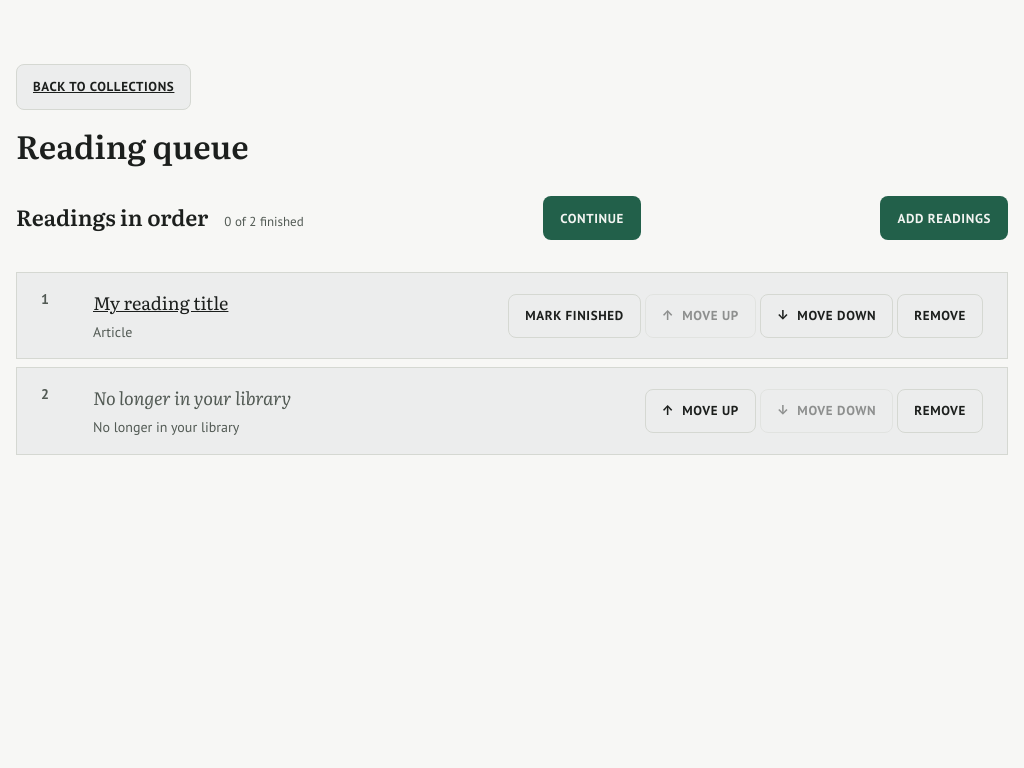
membership-edit honest failures (issue #243) › a storage failure announces the action-specific retry copy and leaves the rows intact
Expected: the heading "Readings in order" is shown, [16,204,208,232]
Click the button with aria-label "Remove My reading title from this collection".
click(940, 316)  # box [897,294,983,338]
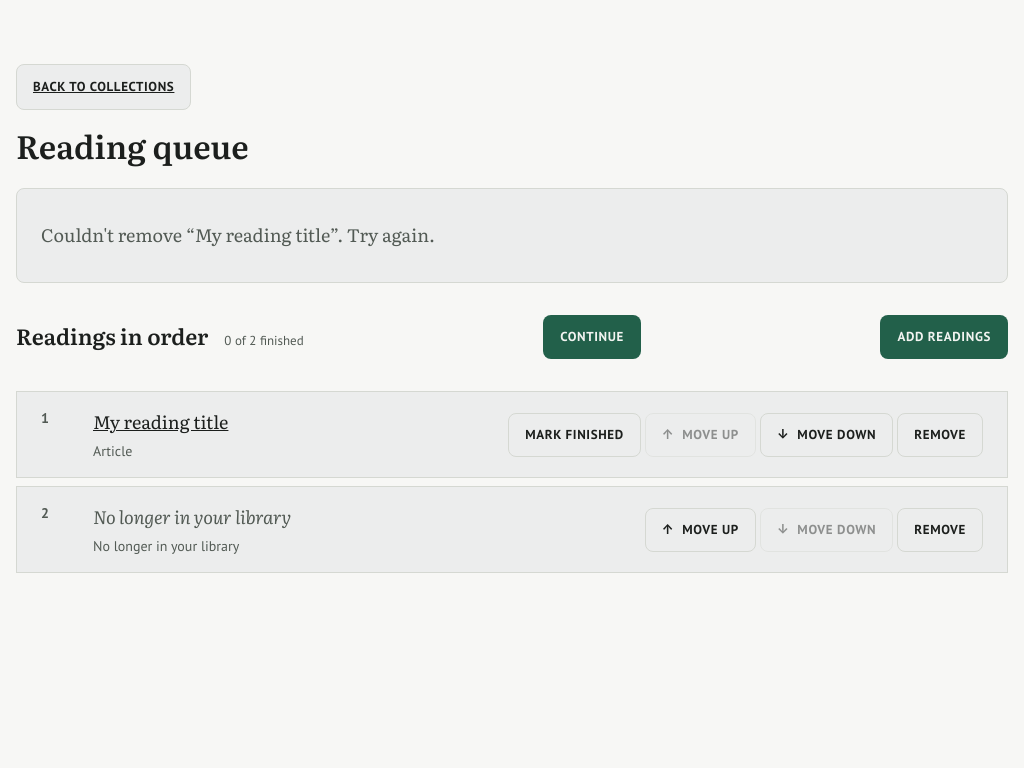
Expected: the link "My reading title" is shown, [93,408,228,435]
Expected: the text "Couldn't remove “My reading title”. Try again." is shown, [41,221,435,248]
